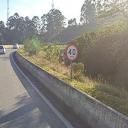speed_limit_40: (66, 44, 78, 62)
